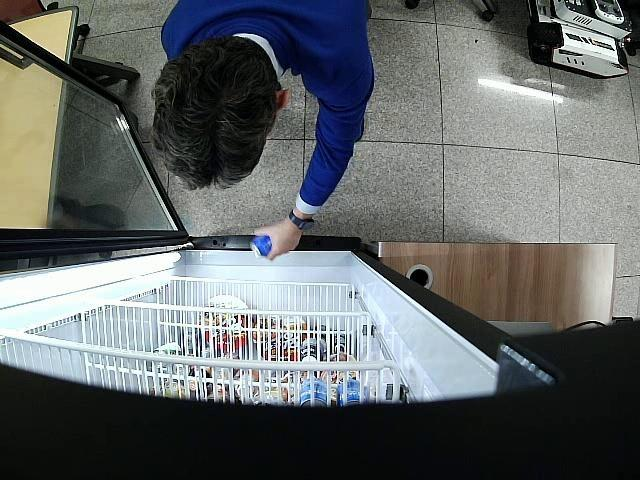13_pocariSweat: (250, 236, 272, 256)
